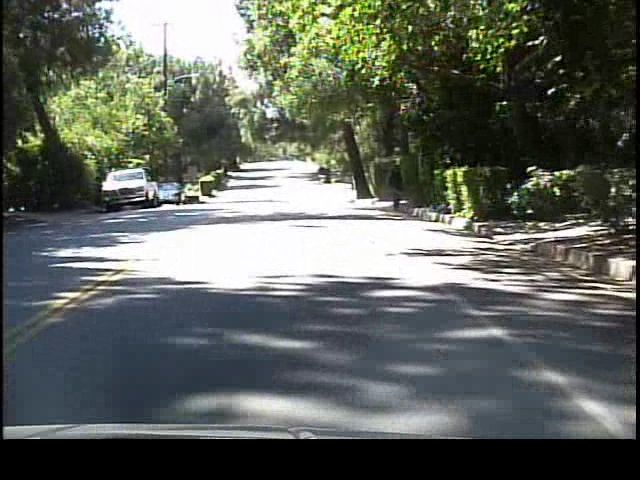person: (385, 156, 407, 214)
